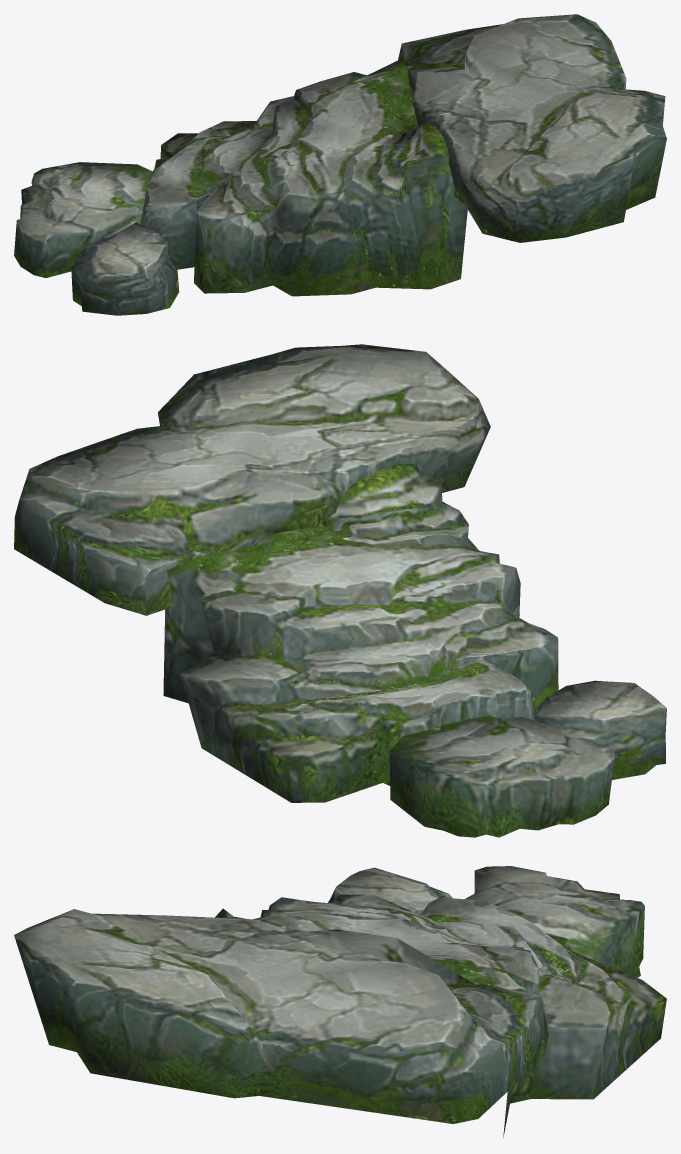
File: 1004_Item_taijie_1.FBX
3 renders of one model, top to bottom at view 1: azimuth 30°, elevation 25°; view 2: azimuth 150°, elevation 25°; view 3: azimuth 270°, elevation 25°, orthographic. The views are drawn at different scales.
Parts seen in each view (by area): view 1: 1004_Item_taijie_1; view 2: 1004_Item_taijie_1; view 3: 1004_Item_taijie_1.
Part boxes in pixels (bbox=[...]): 1004_Item_taijie_1: bbox=[14, 14, 666, 315]; 1004_Item_taijie_1: bbox=[14, 344, 666, 837]; 1004_Item_taijie_1: bbox=[14, 866, 666, 1137].
Size of the model in its own units: 498 by 430 by 143.
Materials: 1 (1 with a texture image).
